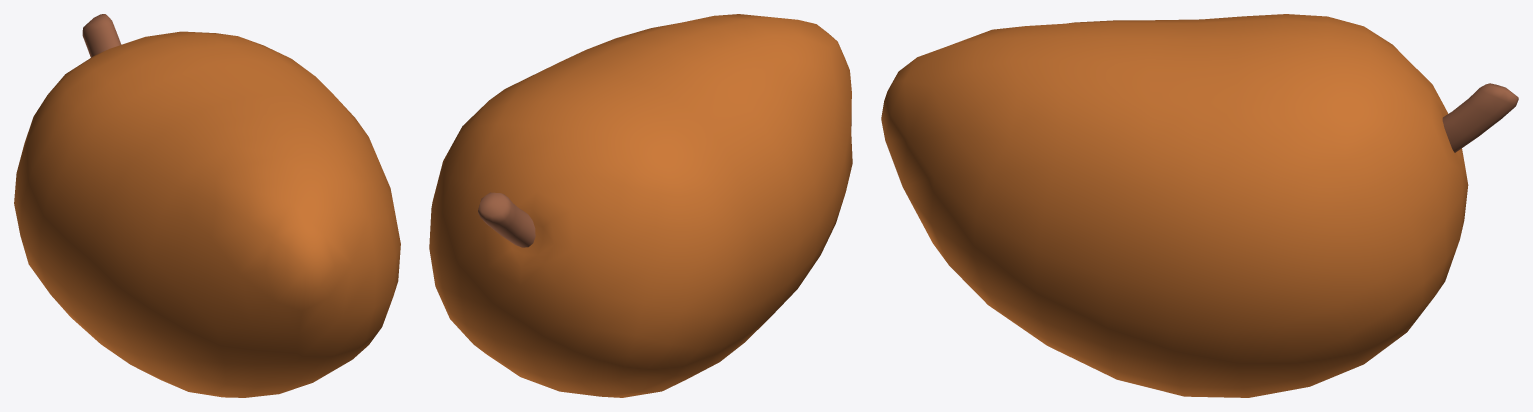
Rendered from Mango_01.dae.
3 views of the same model, side by side, from view 1: azimuth 30°, elevation 25°; view 2: azimuth 150°, elevation 25°; view 3: azimuth 270°, elevation 25° (orthographic). The views are drawn at different scales.
Visible parts, largest first — view 1: Mango_01_LOD0; view 2: Mango_01_LOD0; view 3: Mango_01_LOD0.
Part boxes in pixels (<box>): Mango_01_LOD0: <box>14,14,400,397</box>; Mango_01_LOD0: <box>429,14,852,397</box>; Mango_01_LOD0: <box>881,14,1518,397</box>.
Size of what is drawn, in the model's own units: 3.52 by 5.71 by 3.35.
